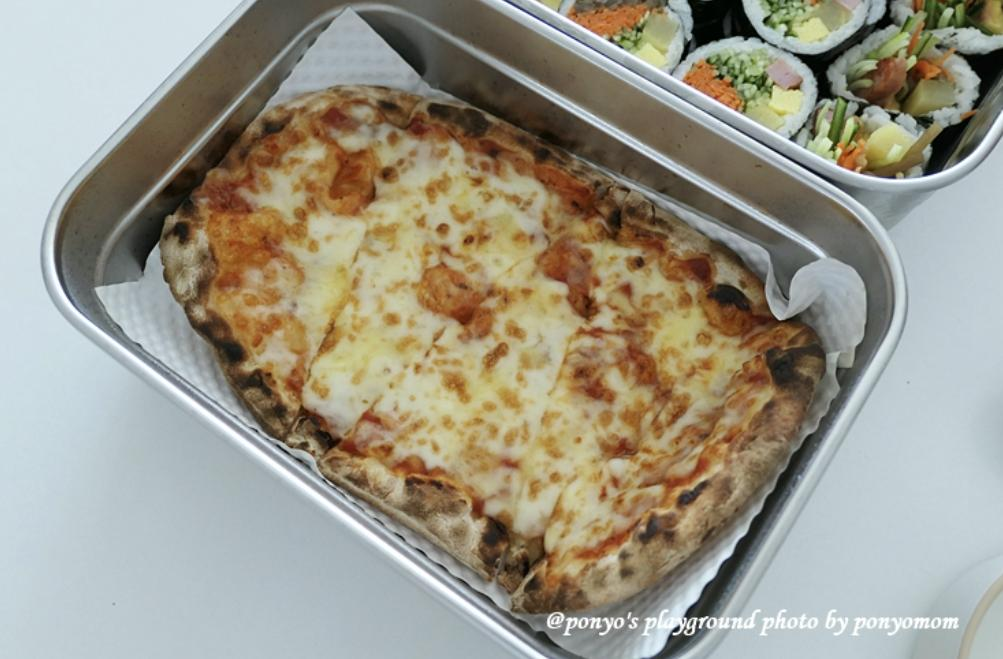Lunch Box: (43, 0, 904, 658), (508, 0, 1002, 225)
